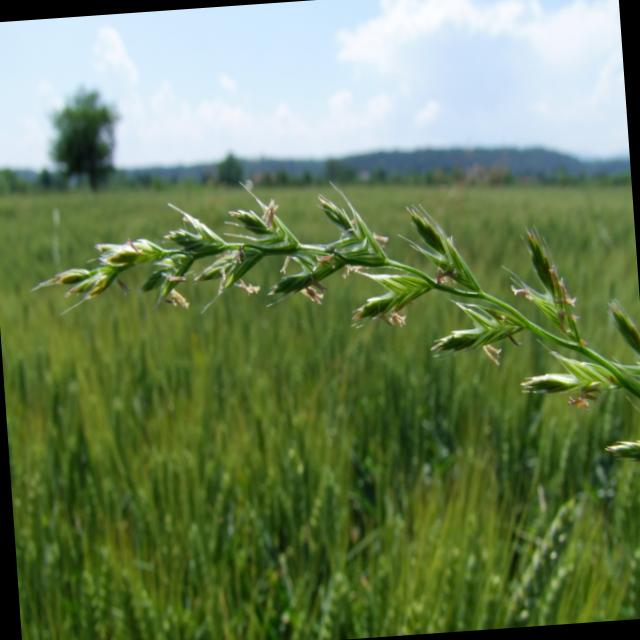Lolium: (21, 151, 640, 520)
